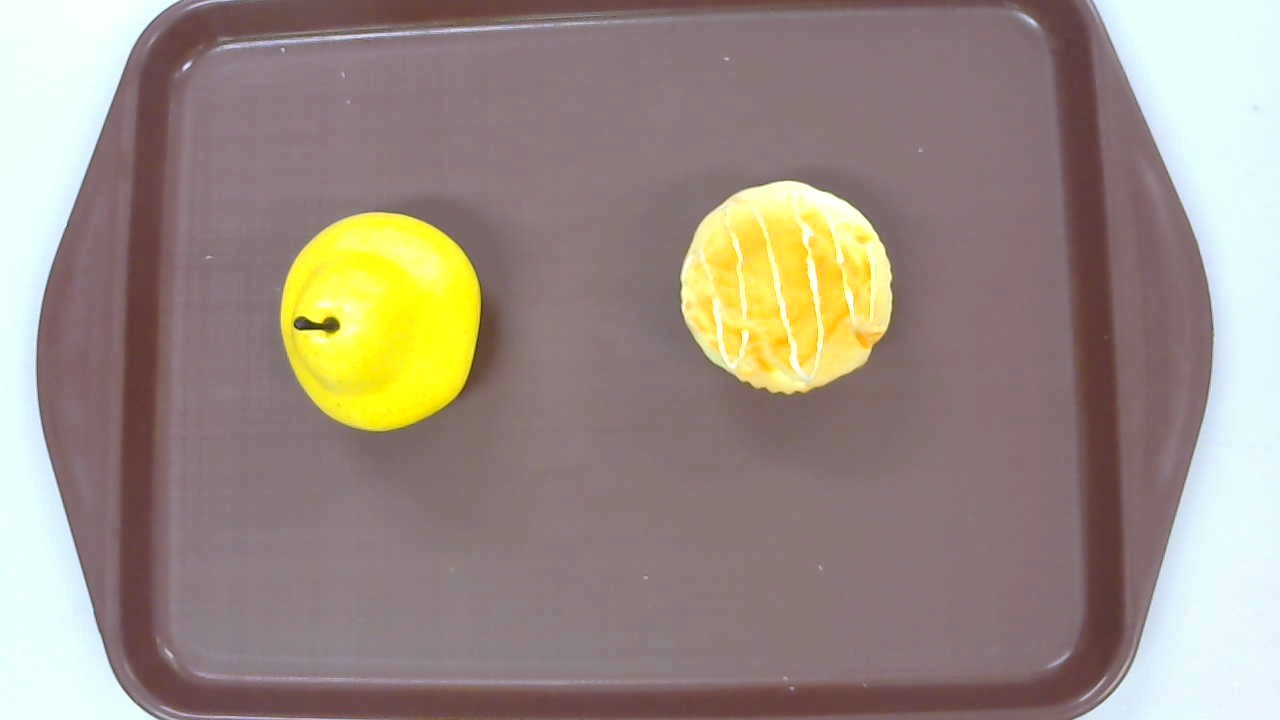cupcake: (678, 181, 893, 397)
yellow pear: (279, 212, 482, 434)
